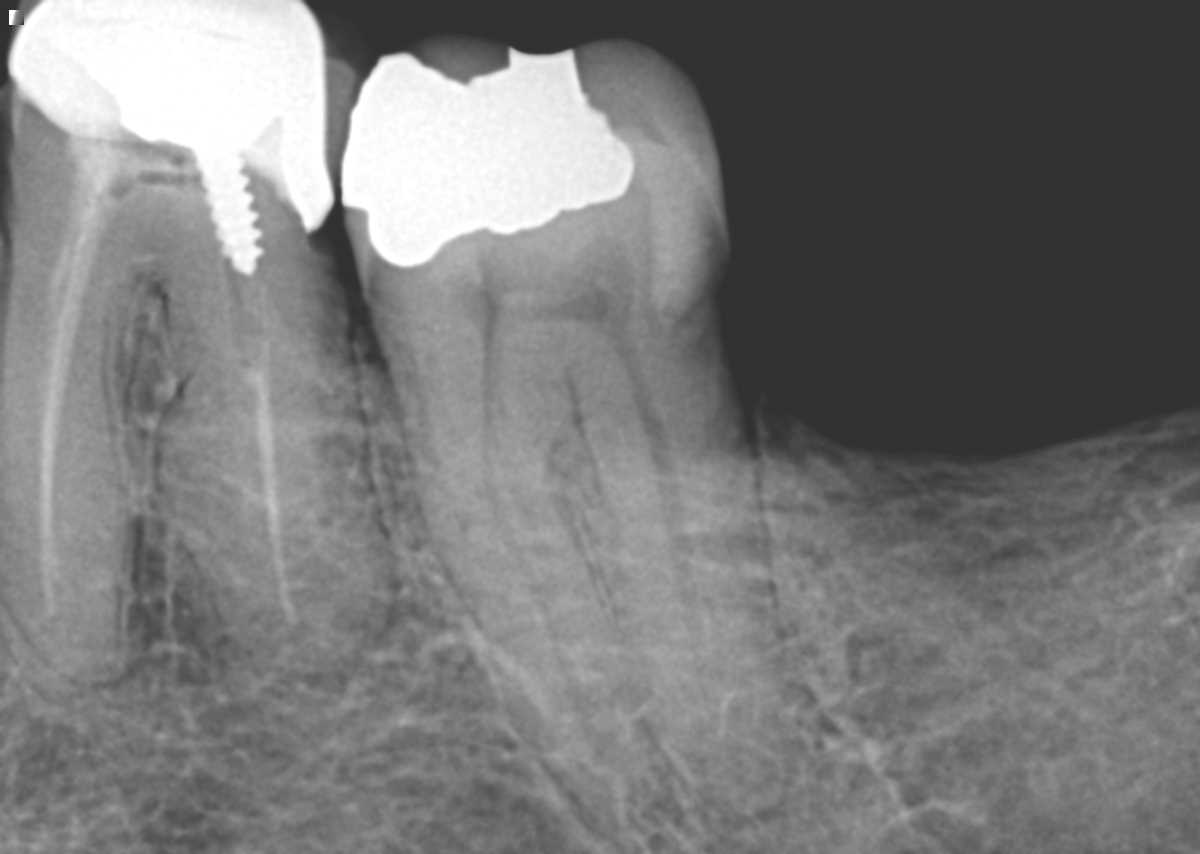Distal Canal: (626, 360, 719, 718)
Distal Root: (560, 329, 802, 839), (161, 163, 374, 672)
Mesial Canal: (478, 334, 627, 767)
Mesial Root: (380, 329, 687, 847), (4, 185, 156, 698)
Root Canal Filling: (36, 191, 121, 618), (236, 336, 298, 621)
